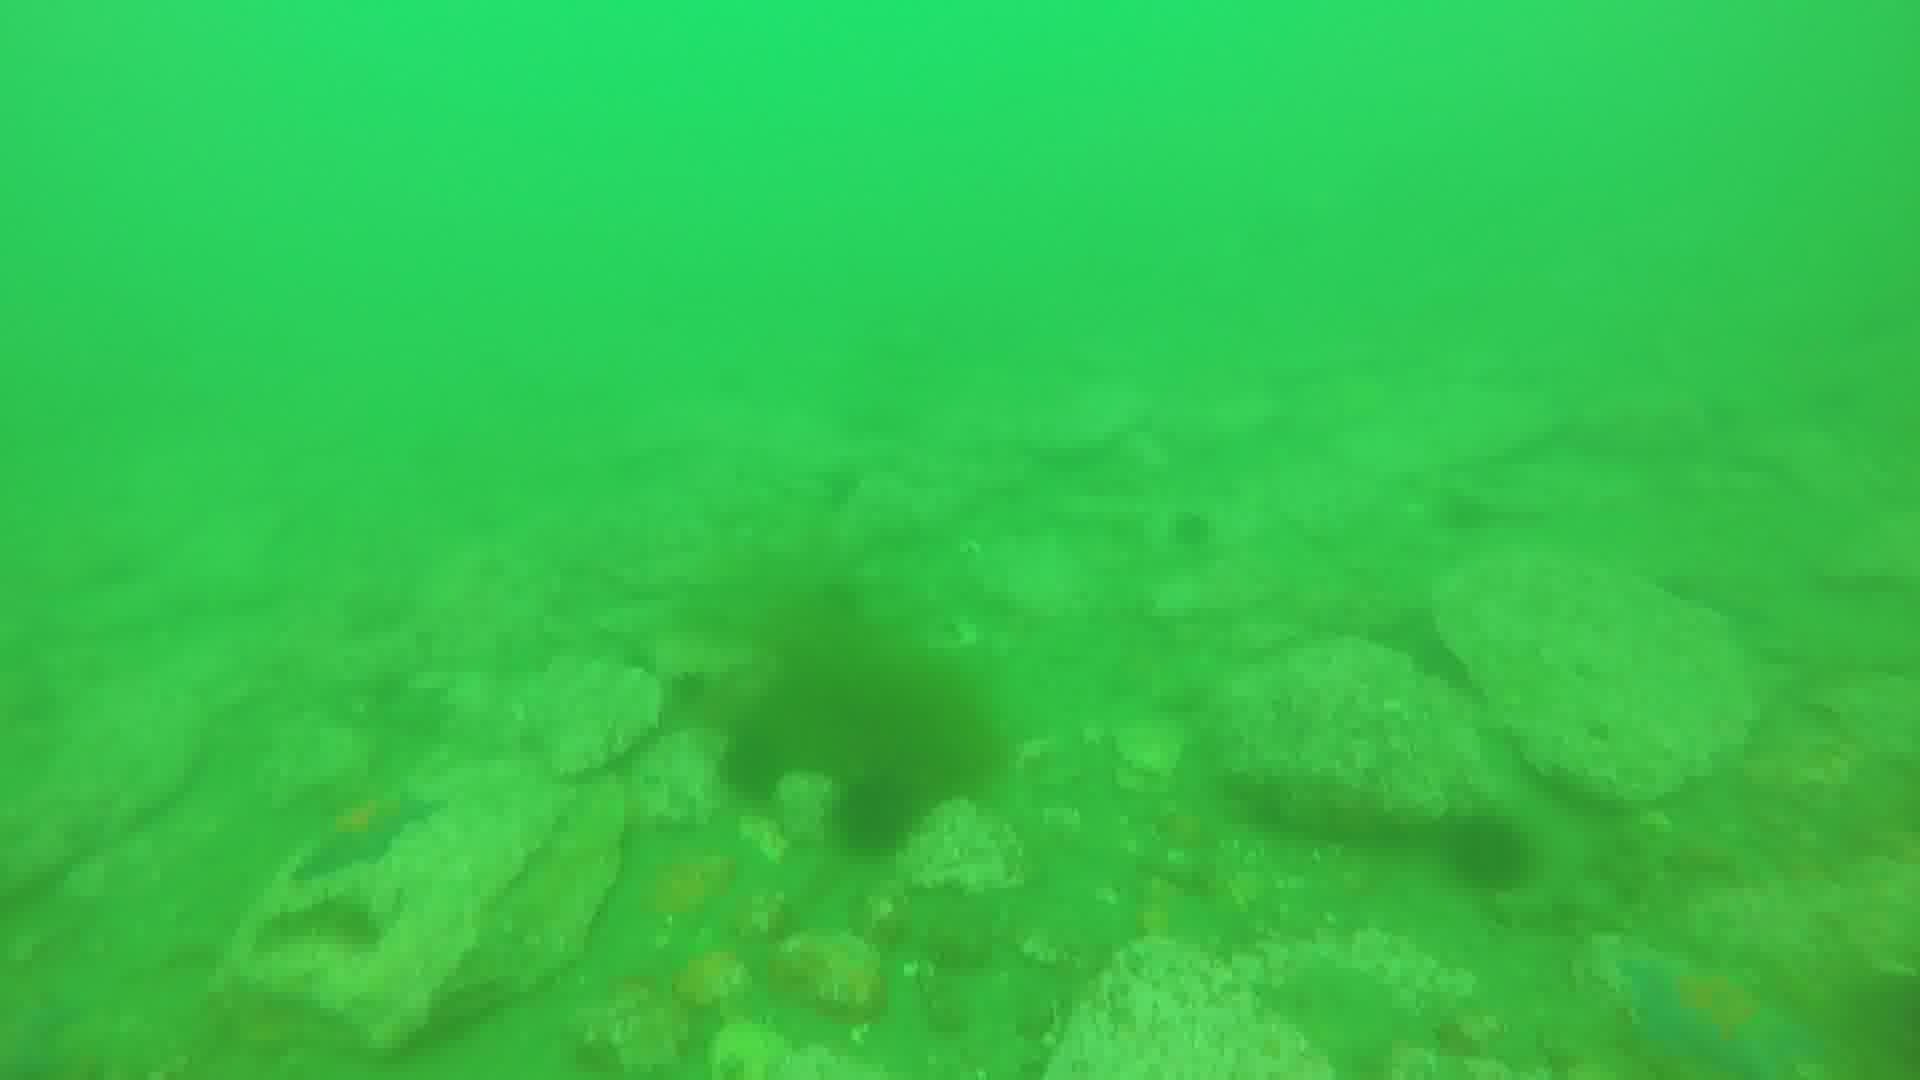echinus: (829, 775, 928, 853), (1444, 810, 1528, 887), (719, 740, 793, 789), (1158, 506, 1222, 556)
starfish: (1625, 953, 1826, 1080), (284, 791, 443, 890)
